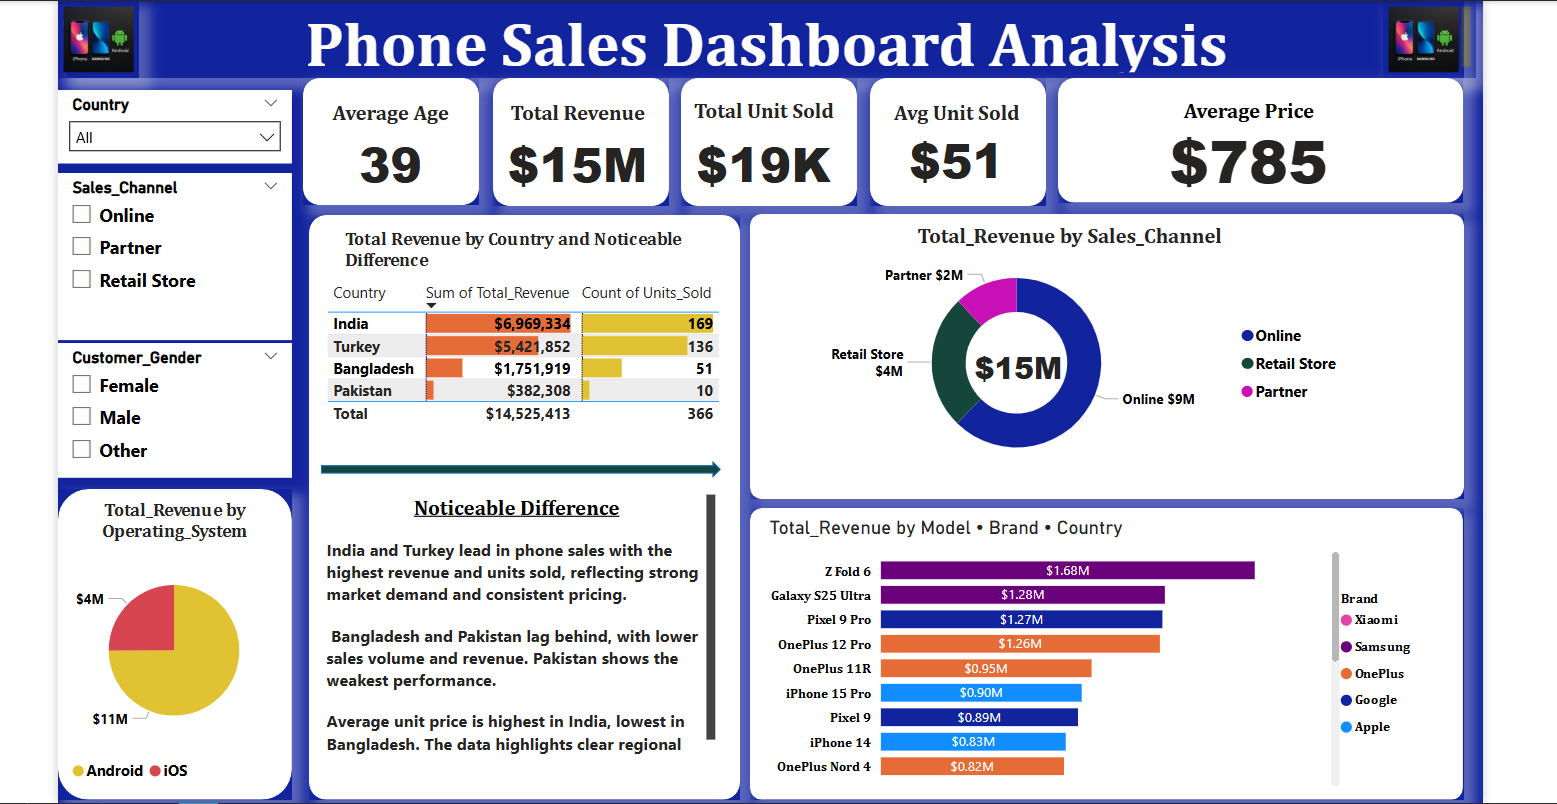

Layout of this report page (visuals, bound fields, positions):
{"tool":"powerbi","page":{"name":"Home","canvas":[1280,720],"ordinal":0},"visuals":[{"type":"slicer","fields":{"Values":["Fact_Sales.Country"]},"box":[0,80.1,210.2,66.1],"z":0},{"type":"slicer","fields":{"Values":["Fact_Sales.Customer_Gender"]},"box":[0,307.2,210.2,121.1],"z":1000},{"type":"slicer","fields":{"Values":["Fact_Sales.Sales_Channel"]},"box":[0,154.1,210.2,150.1],"z":2000},{"type":"textbox","box":[7,0,1266,69.1],"z":3000},{"type":"shape","box":[220,69.1,158,114],"z":4000},{"type":"shape","box":[390.5,69.1,158,114.9],"z":5000},{"type":"shape","box":[559.3,69.1,158,114.9],"z":6000},{"type":"card","title":"Average Age","fields":{"Values":["Fact_Sales.Avg Age"]},"box":[236.2,89.1,125.1,90.1],"z":7000},{"type":"card","title":"Total Revenue","fields":{"Values":["Sum(Fact_Sales.Total_Revenue)"]},"box":[398.3,89.1,136.1,90.1],"z":8000},{"type":"card","title":"Total Unit Sold","fields":{"Values":["Sum(Fact_Sales.Units_Sold)"]},"box":[565.4,87.1,136.1,94.1],"z":9000},{"type":"shape","box":[729,69.1,158,114.9],"z":10000},{"type":"card","title":"Avg Unit Sold","fields":{"Values":["Fact_Sales.Avg UnitsSold"]},"box":[734.6,89.1,145.1,83.1],"z":11000},{"type":"shape","box":[225.2,192.2,387.3,525.4],"z":12000},{"type":"shape","box":[0,438.3,210.2,279.2],"z":13000},{"type":"shape","box":[621.2,191.2,641,255.9],"z":14000},{"type":"donutChart","title":" Total_Revenue by Sales_Channel","fields":{"Category":["Fact_Sales.Sales_Channel"],"Y":["Sum(Fact_Sales.Total_Revenue)"]},"box":[654.5,199.2,507.4,229.2],"z":15000},{"type":"card","fields":{"Values":["Sum(Fact_Sales.Total_Revenue)"]},"box":[807.6,304.2,108.1,51],"z":16000},{"type":"pieChart","title":" Total_Revenue by Operating_System","fields":{"Y":["Sum(Fact_Sales.Total_Revenue)"],"Category":["Fact_Sales.Operating_System"]},"box":[7,447.3,194.2,263.2],"z":17000},{"type":"tableEx","fields":{"Values":["Dim_Locations.Country","Sum(Fact_Sales.Total_Revenue)","CountNonNull(Fact_Sales.Units_Sold)"]},"box":[236.2,247.2,369.3,166.1],"z":18000},{"type":"shape","box":[236.2,413.3,359.3,15],"z":19000},{"type":"textbox","box":[236.2,438.3,359.3,246.2],"z":20000},{"type":"textbox","box":[252.2,199.2,353.3,48],"z":21000},{"type":"shape","box":[621.5,455.4,640.5,262.2],"z":22000},{"type":"barChart","title":" Total_Revenue by Model • Brand • Country","fields":{"Category":["Fact_Sales.Mobile_Model"],"Series":["Fact_Sales.Brand"],"Y":["Sum(Fact_Sales.Total_Revenue)"]},"box":[633.5,462.4,593.5,248.2],"z":23000},{"type":"actionButton","box":[0,0,100,40],"z":24000},{"type":"image","box":[0,0,73.1,69.1],"z":25000},{"type":"image","box":[1189.9,0,73.1,69.1],"z":26000},{"type":"shape","box":[897.8,69.1,364.5,112.2],"z":27000},{"type":"card","title":"Average Price","fields":{"Values":["Fact_Sales.Avg price"]},"box":[908.7,87.1,321.3,85.1],"z":28000}]}

Visuals, with their boxes on the page's 1280x720 design canvas (x1, y1, x2, y2). These are canvas units, not pixel positions in the 1557x804 screenshot, which may show the page scaled, cropped or inside an application window:
slicer - Fact_Sales.Country: 0:80:210:146
slicer - Fact_Sales.Customer_Gender: 0:307:210:428
slicer - Fact_Sales.Sales_Channel: 0:154:210:304
textbox: 7:0:1273:69
shape: 220:69:378:183
shape: 390:69:548:184
shape: 559:69:717:184
"Average Age" card: 236:89:361:179
"Total Revenue" card: 398:89:534:179
"Total Unit Sold" card: 565:87:702:181
shape: 729:69:887:184
"Avg Unit Sold" card: 735:89:880:172
shape: 225:192:612:718
shape: 0:438:210:718
shape: 621:191:1262:447
" Total_Revenue by Sales_Channel" donutChart: 654:199:1162:428
card - Sum(Fact_Sales.Total_Revenue): 808:304:916:355
" Total_Revenue by Operating_System" pieChart: 7:447:201:710
tableEx - Dim_Locations.Country x Sum(Fact_Sales.Total_Revenue): 236:247:606:413
shape: 236:413:596:428
textbox: 236:438:596:684
textbox: 252:199:606:247
shape: 622:455:1262:718
" Total_Revenue by Model • Brand • Country" barChart: 634:462:1227:711
actionButton: 0:0:100:40
image: 0:0:73:69
image: 1190:0:1263:69
shape: 898:69:1262:181
"Average Price" card: 909:87:1230:172
